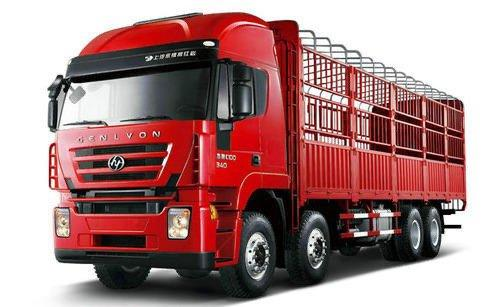truck: (48, 12, 467, 298)
